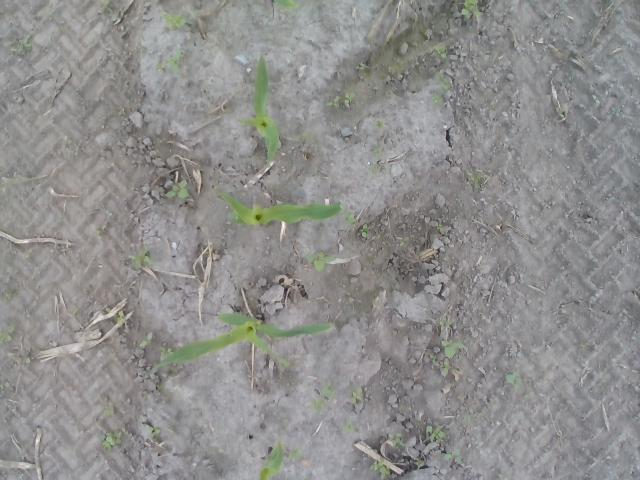Maize: (158, 312, 334, 370), (212, 190, 344, 225), (239, 55, 279, 165), (258, 441, 282, 480), (271, 0, 297, 11)
Weeds: (309, 382, 336, 412), (127, 246, 155, 273), (304, 252, 336, 272), (324, 90, 353, 112), (164, 178, 190, 202), (164, 46, 186, 73), (9, 34, 33, 56), (159, 11, 186, 30), (440, 338, 464, 358), (502, 371, 522, 392), (371, 460, 392, 480), (100, 432, 122, 451), (62, 135, 80, 157), (136, 333, 152, 354), (426, 424, 446, 440), (434, 70, 448, 92), (341, 415, 358, 433), (461, 0, 480, 16), (270, 353, 290, 368), (447, 448, 464, 465), (0, 324, 16, 342), (352, 386, 365, 408), (389, 431, 405, 447), (287, 447, 304, 460), (369, 145, 385, 158), (100, 0, 113, 16), (346, 210, 358, 226), (150, 424, 162, 440), (431, 47, 449, 57), (440, 358, 450, 375), (0, 291, 14, 303), (159, 346, 173, 358), (358, 224, 368, 240), (468, 174, 481, 186), (114, 310, 126, 323), (368, 164, 380, 176), (152, 63, 168, 72), (432, 94, 444, 106), (462, 414, 480, 422), (22, 353, 33, 366), (72, 303, 80, 319), (102, 406, 114, 416), (392, 63, 405, 72), (374, 118, 384, 128), (95, 224, 102, 237), (439, 319, 452, 326), (398, 240, 409, 248), (0, 384, 5, 398), (592, 95, 600, 103), (436, 222, 443, 230), (431, 356, 436, 364)
